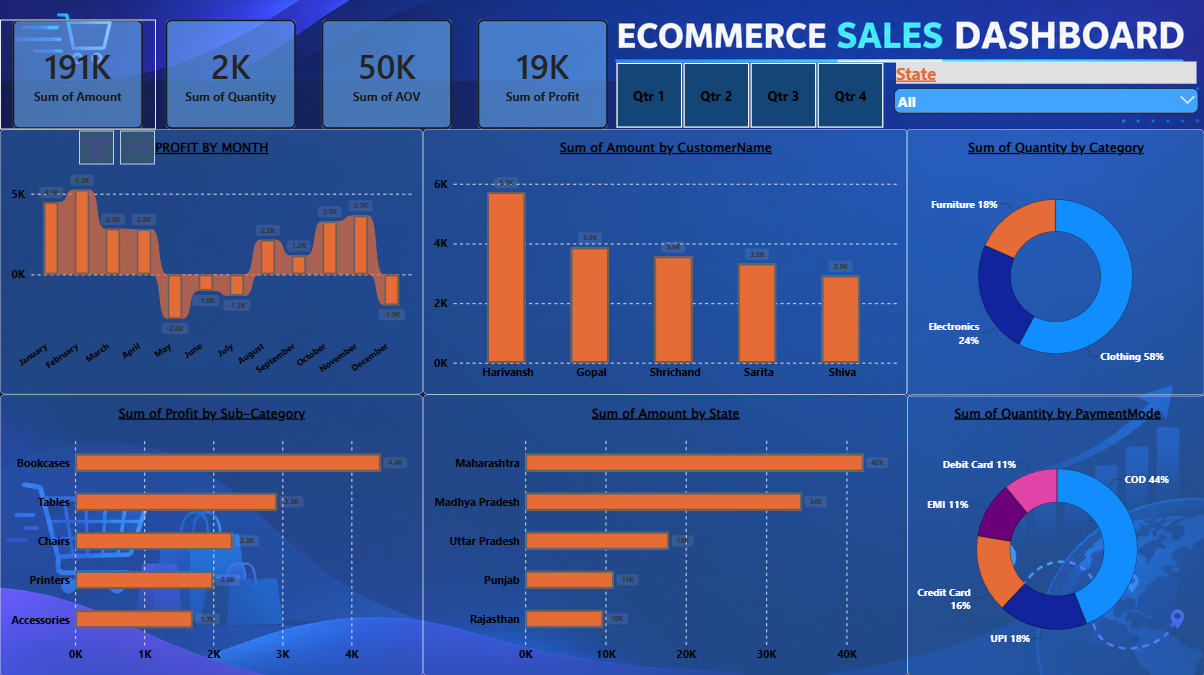

This screenshot's page, from the dashboard's own definition file:
{"tool":"powerbi","page":{"name":"Page 1","canvas":[1920,1080],"ordinal":0},"visuals":[{"type":"textbox","box":[987.8,0,935.3,85.9],"z":0},{"type":"barChart","fields":{"Category":["Details.Sub-Category"],"Y":["Sum(Details.Profit)"]},"box":[0,632.3,668.1,448.6],"z":1000},{"type":"donutChart","fields":{"Category":["Details.Category"],"Y":["Sum(Details.Quantity)"]},"box":[1440,209.8,476.2,425.2],"z":2000},{"type":"donutChart","fields":{"Category":["Details.PaymentMode"],"Y":["Sum(Details.Quantity)"]},"box":[1442.8,632.1,476.2,447.9],"z":3000},{"type":"cardVisual","fields":{"Data":["Sum(Details.Amount)"]},"box":[0,35.8,247,174.2],"z":4000},{"type":"cardVisual","fields":{"Data":["Sum(Details.Quantity)"]},"box":[243.4,35.8,247,174.2],"z":5000},{"type":"cardVisual","fields":{"Data":["Sum(Details.AOV)"]},"box":[491.5,35.8,247,174.2],"z":6000},{"type":"cardVisual","fields":{"Data":["Sum(Details.Profit)"]},"box":[739.6,35.8,247,174.2],"z":7000},{"type":"barChart","fields":{"Category":["Orders.State"],"Y":["Sum(Details.Amount)"]},"box":[671.8,632.1,771,447.9],"z":8000},{"type":"columnChart","fields":{"Category":["Orders.CustomerName"],"Y":["Sum(Details.Amount)"]},"box":[671.8,209.8,771,422.4],"z":9000},{"type":"columnChart","title":"PROFIT BY MONTH","fields":{"Category":["Orders.Order Date.Variation.Date Hierarchy.Month"],"Y":["Sum(Details.Profit)"]},"box":[0,210,672.8,422.3],"z":10000},{"type":"slicer","fields":{"Values":["Orders.Order Date.Variation.Date Hierarchy.Quarter"]},"box":[959.1,102.6,465.3,107.4],"z":11000},{"type":"slicer","fields":{"Values":["Orders.State"]},"box":[1424.4,102.6,493.9,107.4],"z":12000}]}

Visuals, with their boxes in screenshot pixels (x1, y1, x2, y2), scaled from the page's 1920x1080 canvas onto the 1204x675 screenshot:
textbox: pyautogui.locateOnScreen(619, 0, 1203, 54)
barChart - Details.Sub-Category x Sum(Details.Profit): pyautogui.locateOnScreen(0, 395, 419, 674)
donutChart - Details.Category x Sum(Details.Quantity): pyautogui.locateOnScreen(903, 131, 1202, 397)
donutChart - Details.PaymentMode x Sum(Details.Quantity): pyautogui.locateOnScreen(905, 395, 1203, 674)
cardVisual - Sum(Details.Amount): pyautogui.locateOnScreen(0, 22, 155, 131)
cardVisual - Sum(Details.Quantity): pyautogui.locateOnScreen(153, 22, 308, 131)
cardVisual - Sum(Details.AOV): pyautogui.locateOnScreen(308, 22, 463, 131)
cardVisual - Sum(Details.Profit): pyautogui.locateOnScreen(464, 22, 619, 131)
barChart - Orders.State x Sum(Details.Amount): pyautogui.locateOnScreen(421, 395, 905, 674)
columnChart - Orders.CustomerName x Sum(Details.Amount): pyautogui.locateOnScreen(421, 131, 905, 395)
"PROFIT BY MONTH" columnChart: pyautogui.locateOnScreen(0, 131, 422, 395)
slicer - Orders.Order Date.Variation.Date Hierarchy.Quarter: pyautogui.locateOnScreen(601, 64, 893, 131)
slicer - Orders.State: pyautogui.locateOnScreen(893, 64, 1203, 131)
